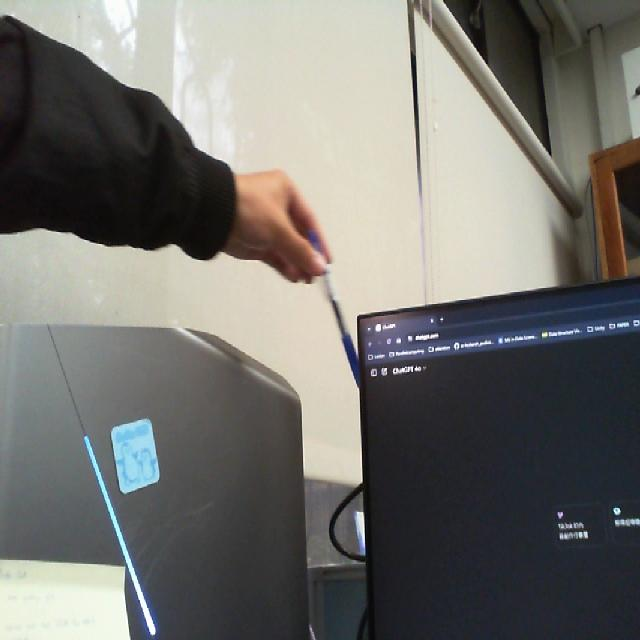Pen: (299, 232, 379, 406)
